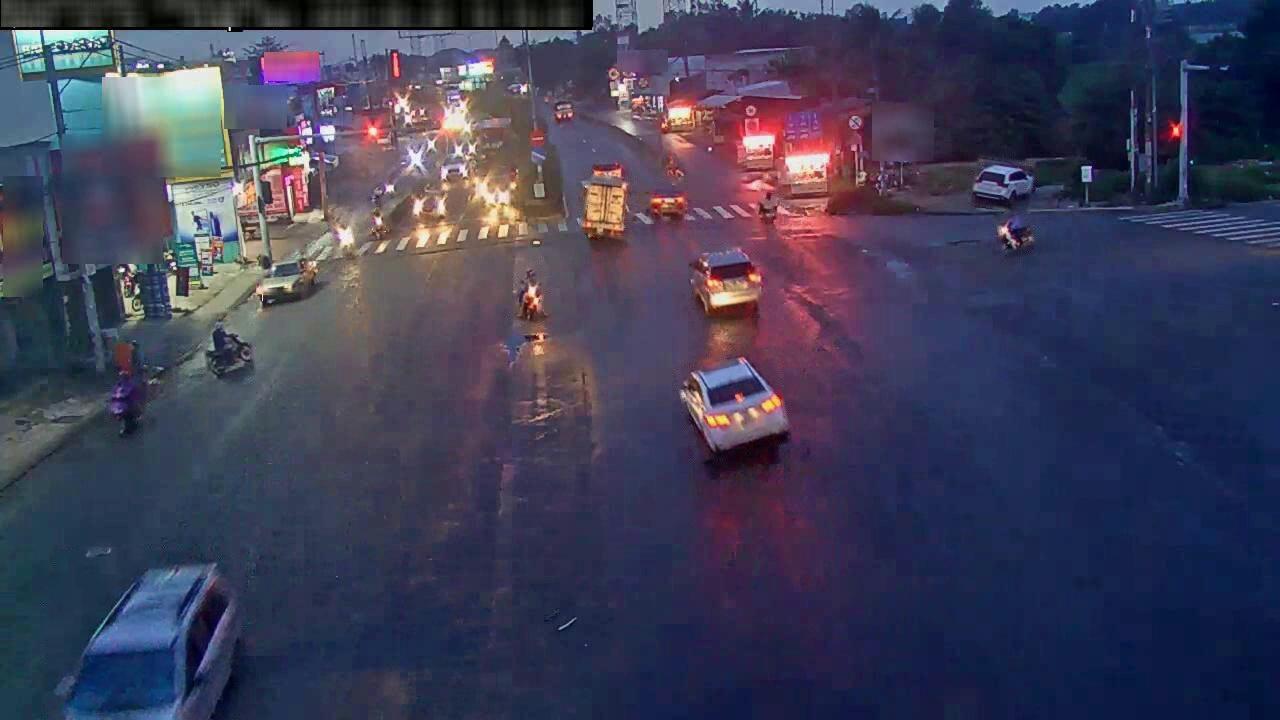Car: (57, 564, 242, 719), (679, 357, 789, 454), (689, 248, 762, 315), (257, 259, 316, 307), (972, 165, 1034, 205), (996, 215, 1034, 253), (648, 186, 686, 218), (414, 194, 446, 224), (441, 160, 468, 182), (554, 101, 574, 122)
Motorcycle: (519, 285, 545, 320)
Motorcyclist: (204, 321, 253, 377), (109, 372, 146, 435), (756, 185, 778, 224), (332, 217, 354, 255), (370, 196, 386, 235)
Traffic light: (389, 51, 401, 79)
Truck: (580, 166, 628, 239), (477, 118, 515, 204)
